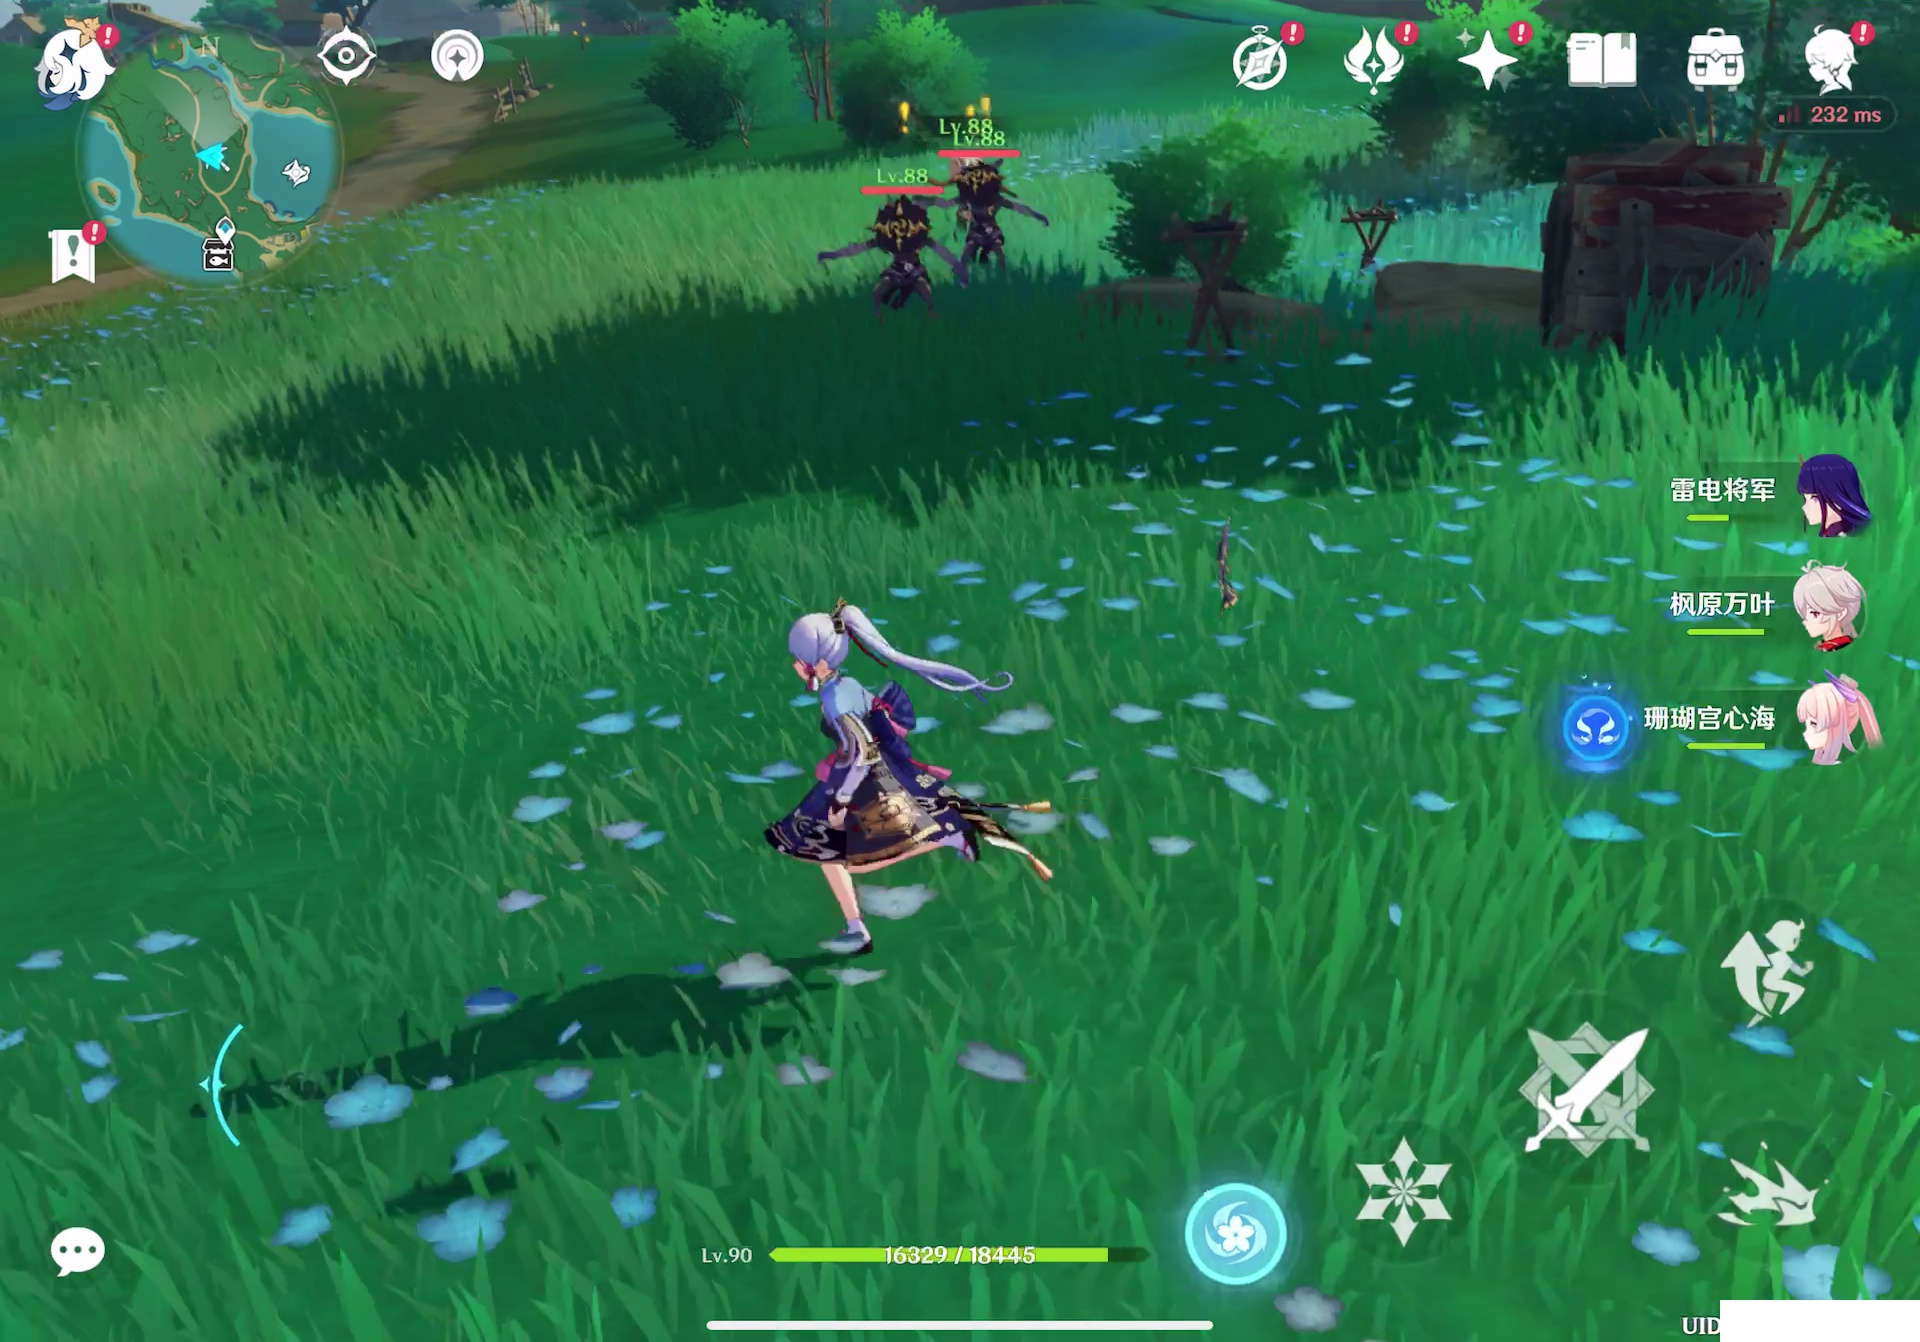丘丘人: (816, 197, 975, 346), (954, 165, 1026, 283)
神里绫龟: (740, 575, 1064, 980)
